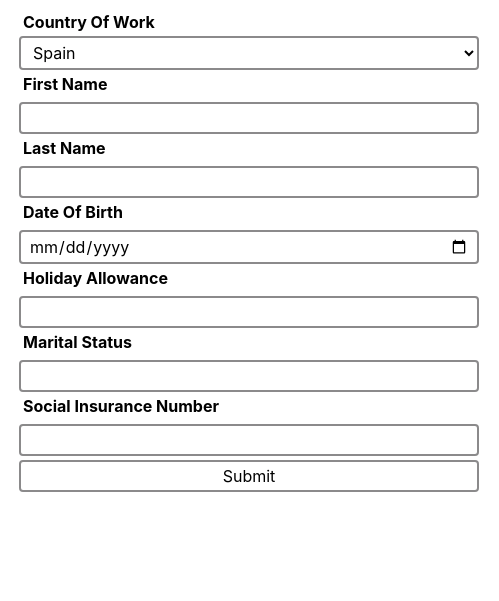
Test: show error for more than 40 holiday days for Brazil
Step 1. Select "Brazil" in the dropdown named "country of work" → (249, 53), box 19,36 -> 479,70
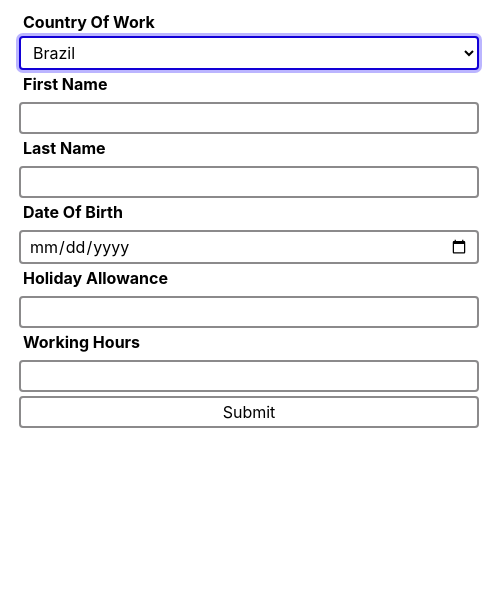
Step 2. Type "41" into the field named "holiday allowance" → (249, 312), box 19,296 -> 479,328
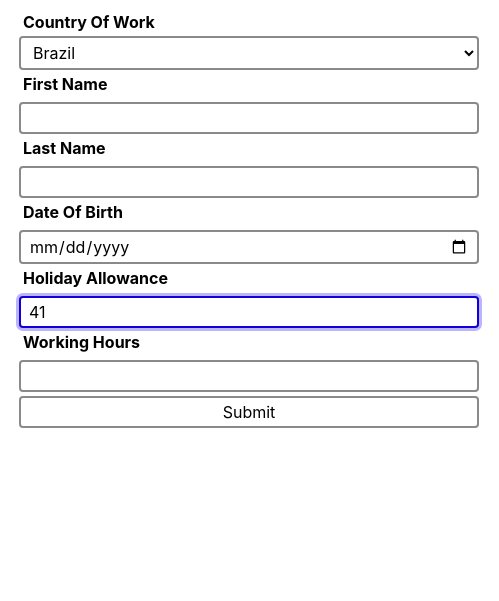
Step 3. Click the button named "submit employee form" → (249, 412), box 19,396 -> 479,428
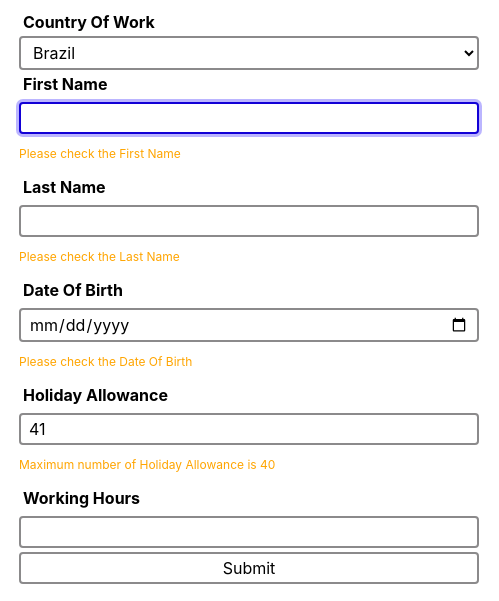
Check: the text "Maximum number of Holiday Allowance is 40" is shown, box 19,457 -> 275,472
